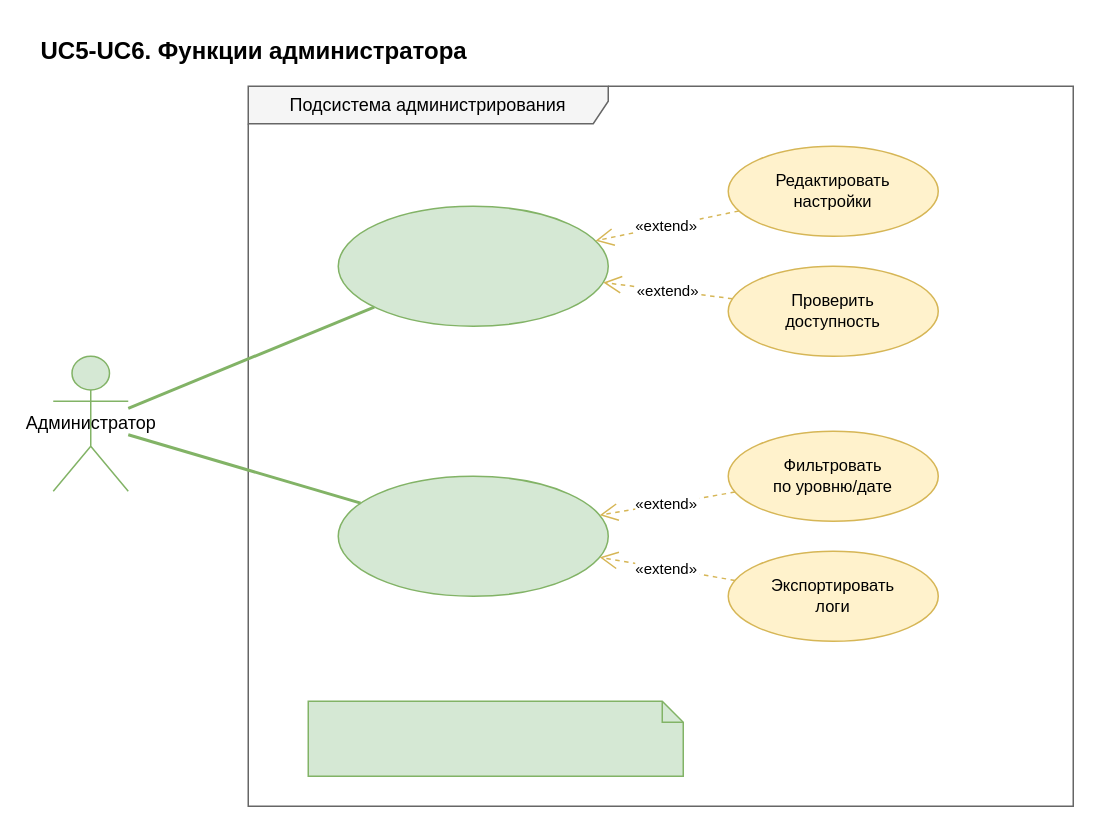
Some shapes in this 1100 by 833 pixel diagram are drawn without their labels. Here are the shapes that lost their labels. From the top down, the centre of each, then its label:
pixel 472 265: UC5. Настроить источники данных
pixel 472 535: UC6. Просмотреть логи системы
pixel 495 738: UC5: Управление источниками данных UC6: Мониторинг работы системы
